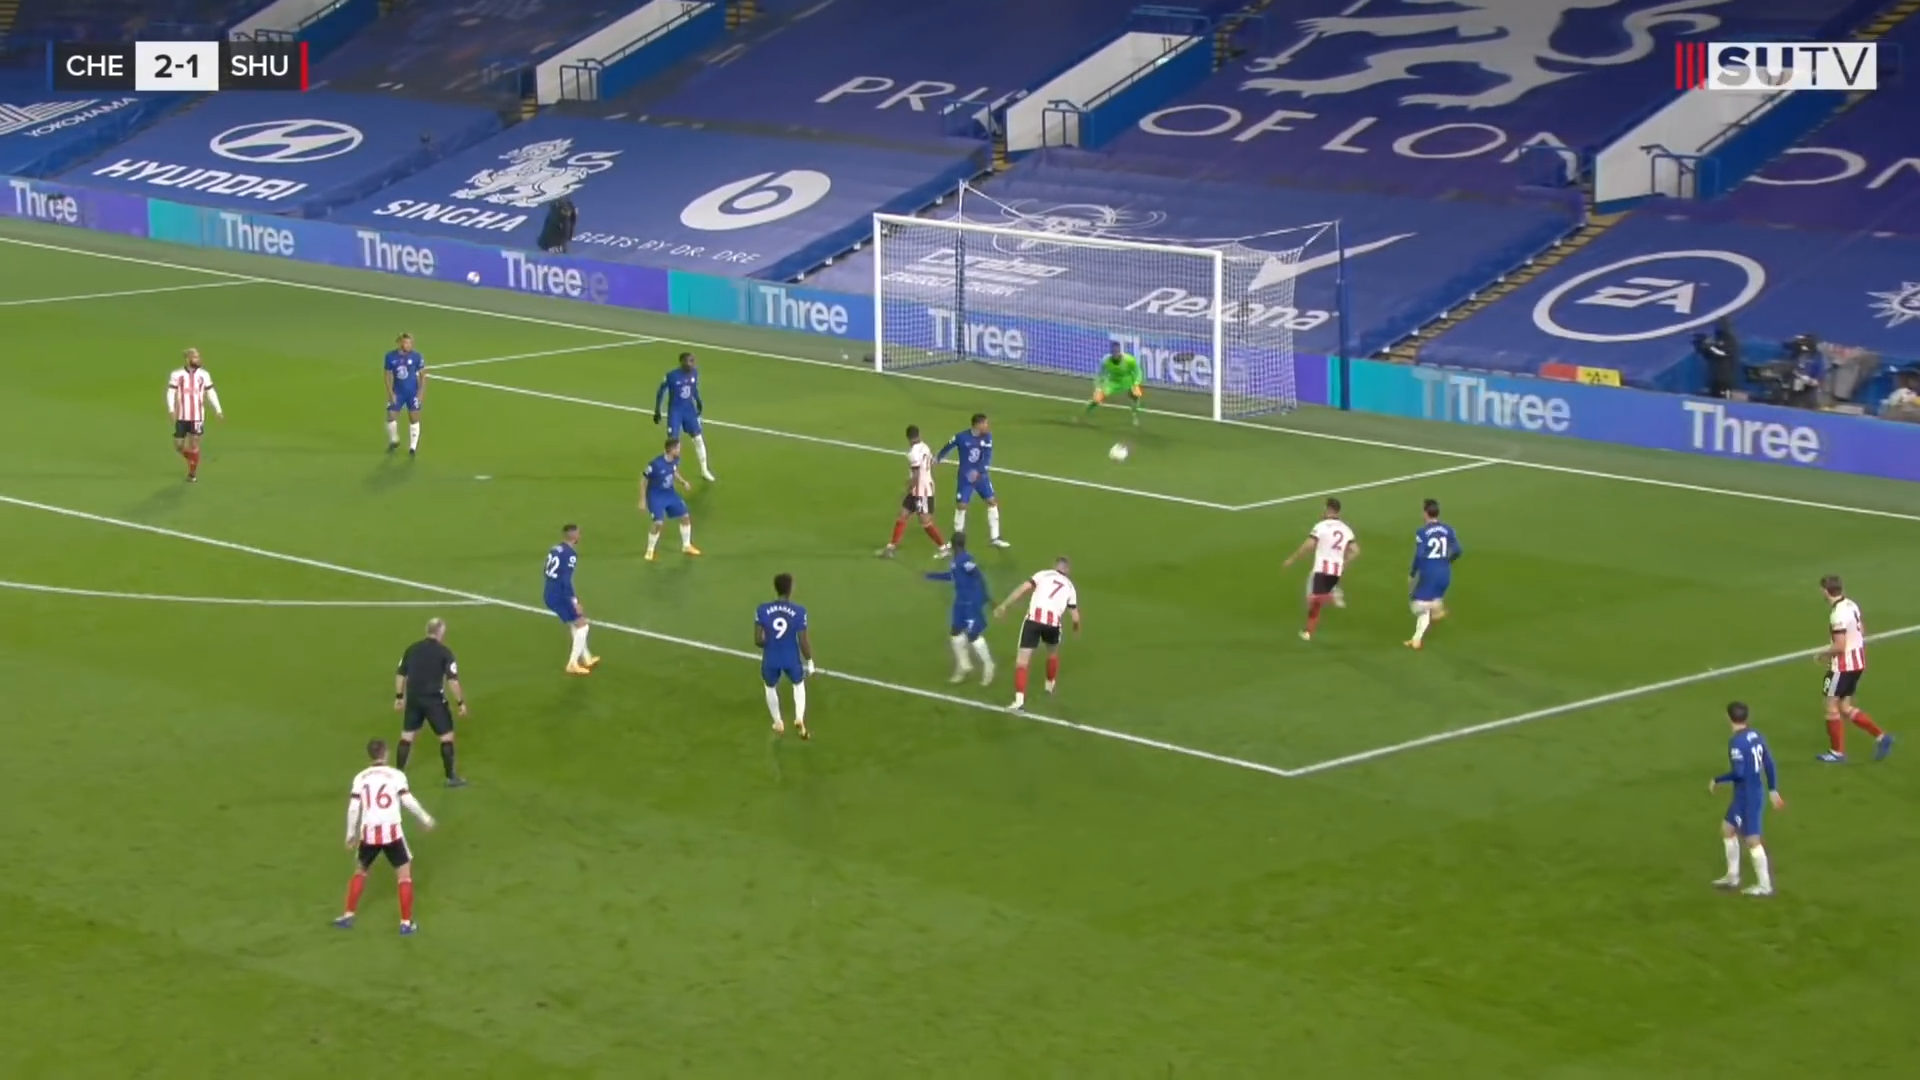Player: (321, 729, 434, 938), (1689, 694, 1795, 911), (1804, 559, 1901, 769), (746, 547, 818, 738), (1286, 477, 1363, 647), (1400, 477, 1468, 661), (530, 509, 605, 673), (161, 335, 230, 489), (379, 322, 431, 463), (1083, 337, 1151, 421)
